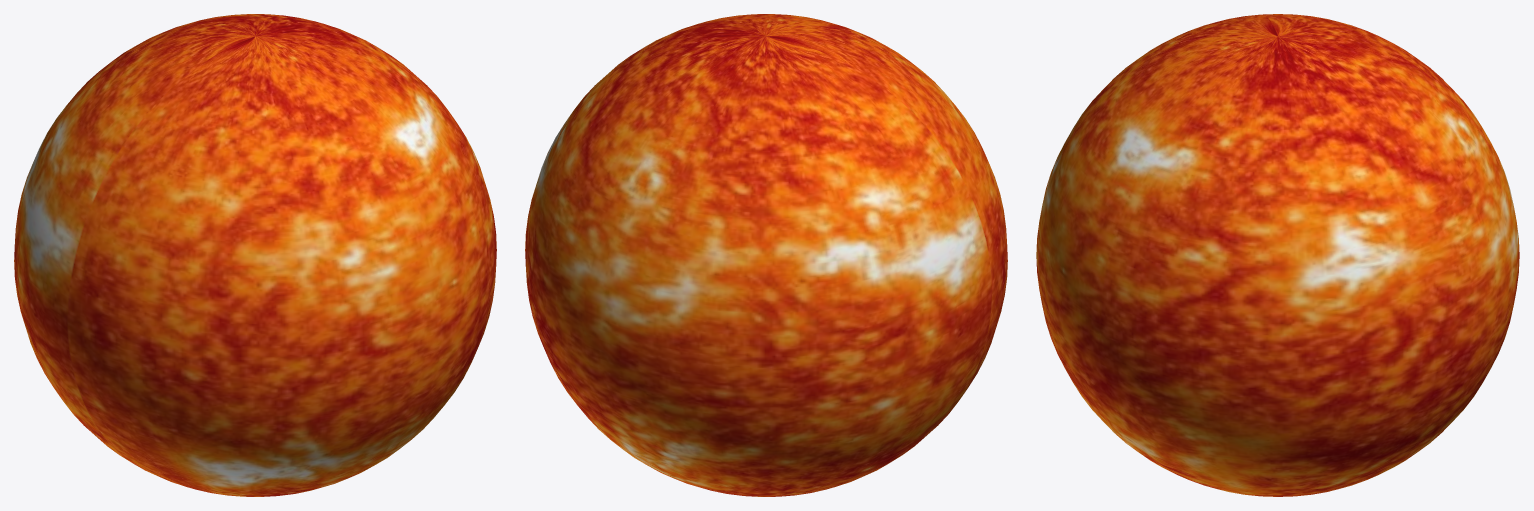
The model's file is sun.glb.
The picture shows the model from 3 angles, left to right: view 1: azimuth 30°, elevation 25°; view 2: azimuth 150°, elevation 25°; view 3: azimuth 270°, elevation 25°; orthographic projection.
Visible parts, largest first — view 1: sun_GEO 2; view 2: sun_GEO 2; view 3: sun_GEO 2.
Part boxes in pixels (x1,y1,x2,y2): sun_GEO 2: (14,14,496,496); sun_GEO 2: (525,14,1007,496); sun_GEO 2: (1036,14,1519,496).
Bounding box in the file's own units: 0.297 × 0.297 × 0.297.
1 material, 1 textured.
